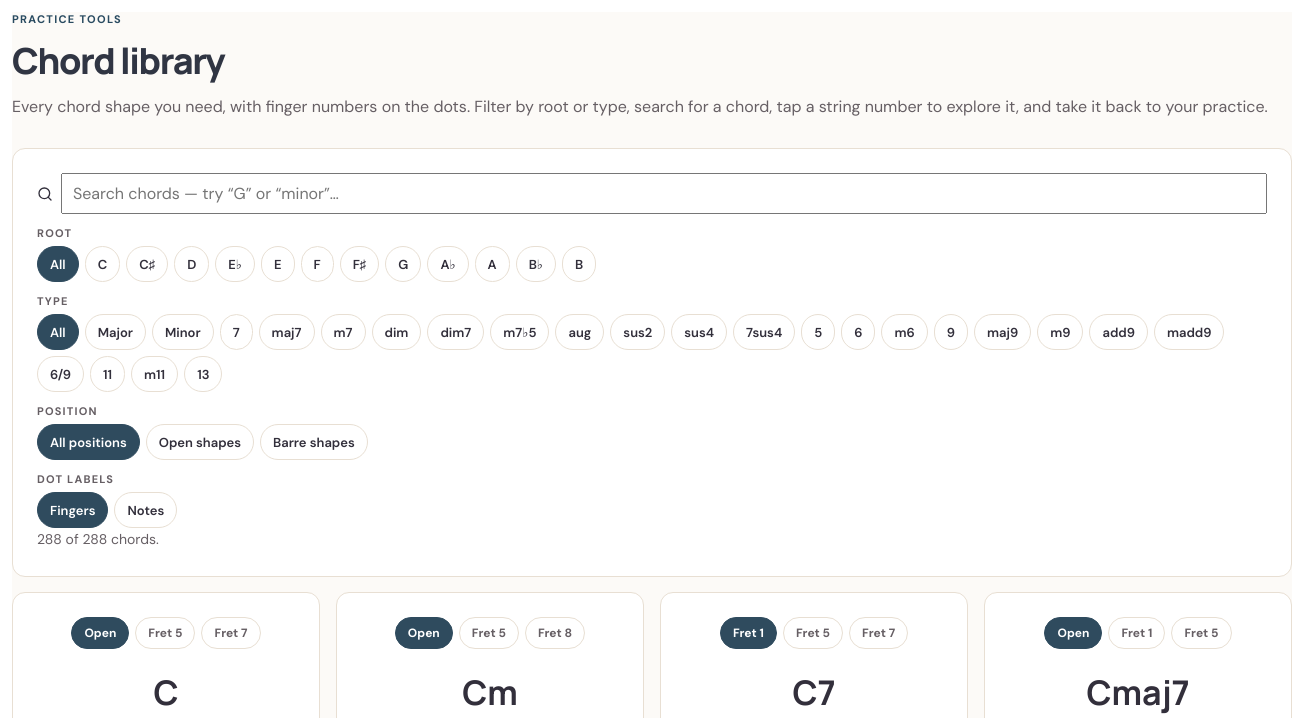
Test: tools pages › ChordLibraryPage renders the chord grid and filters by search
Expected: the heading "Chord library" is shown, [12, 36, 224, 85]
"maj9" matches exactly one chord per root (12 roots).
Type "maj9" into the search field with placeholder "Search chords — try “G” or “minor”…" at (664, 194), box [61, 173, 1267, 214]
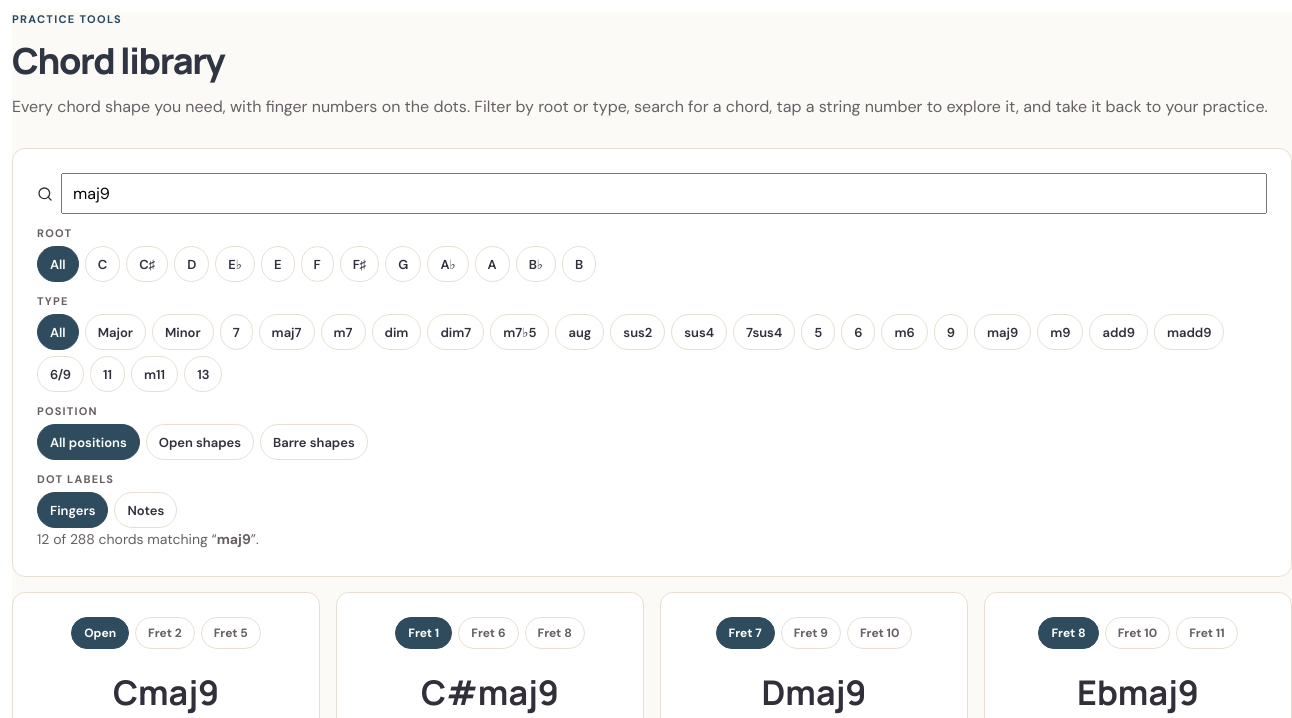
Expected: the text "maj9" is shown, [974, 314, 1031, 350]
Expected: the number of elements with class "chord-diagram" is 12
Expected: the text "matching" is shown, [147, 530, 217, 548]
